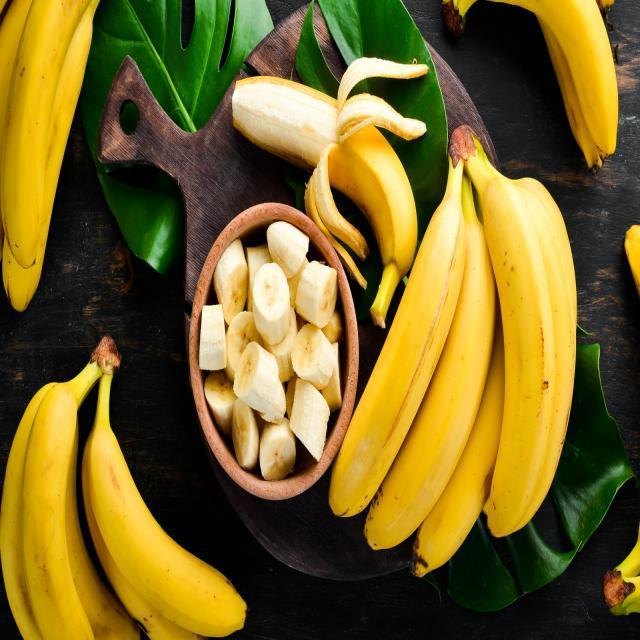Banana: (347, 107, 568, 592), (1, 307, 240, 640), (233, 30, 444, 316)
